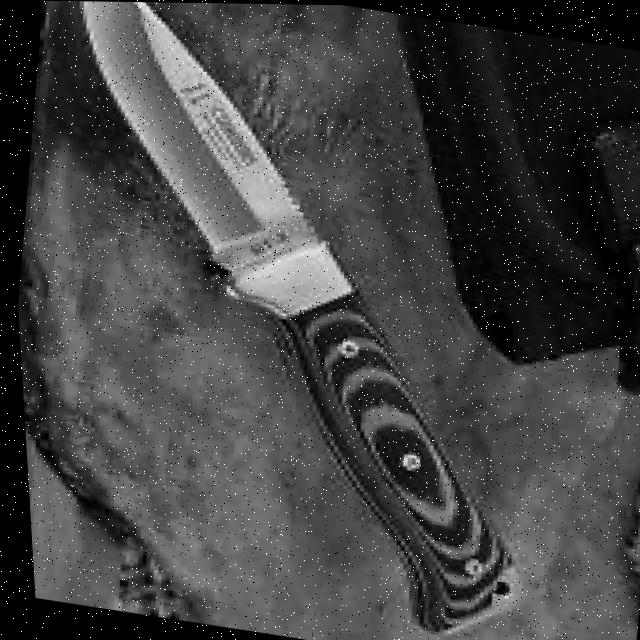knife: (0, 0, 601, 640)
